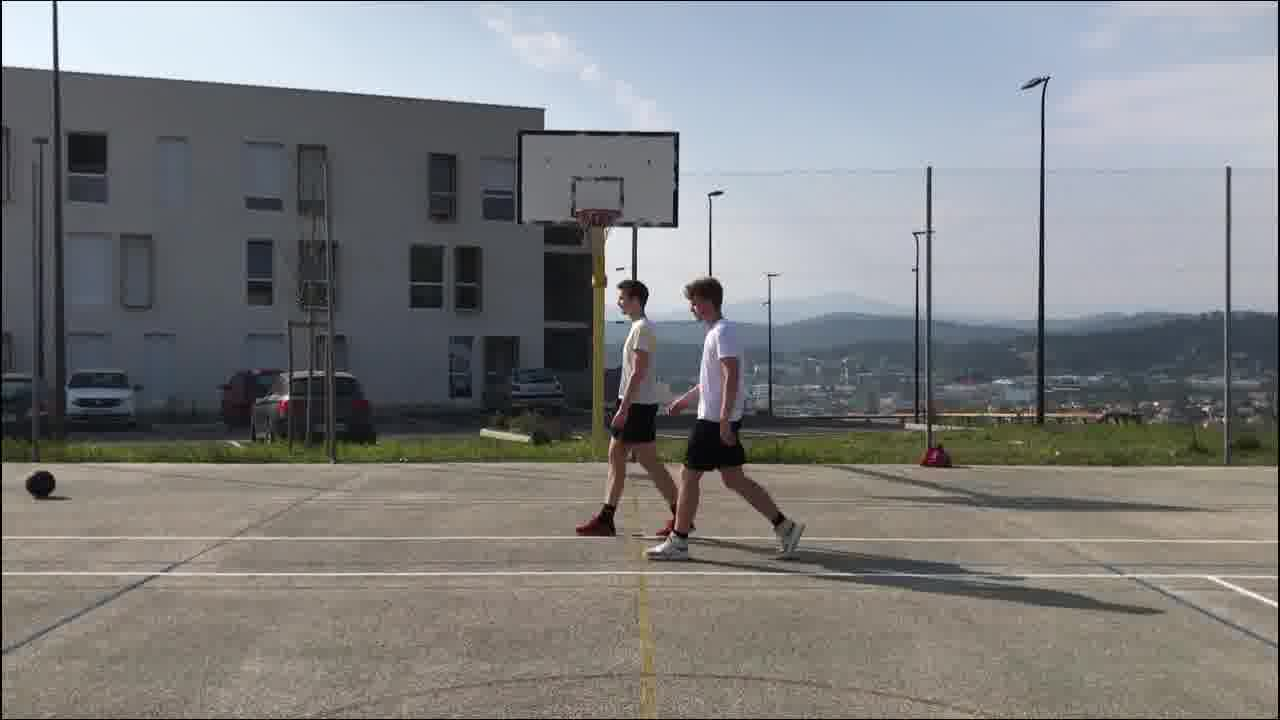jugador: (563, 271, 705, 553)
